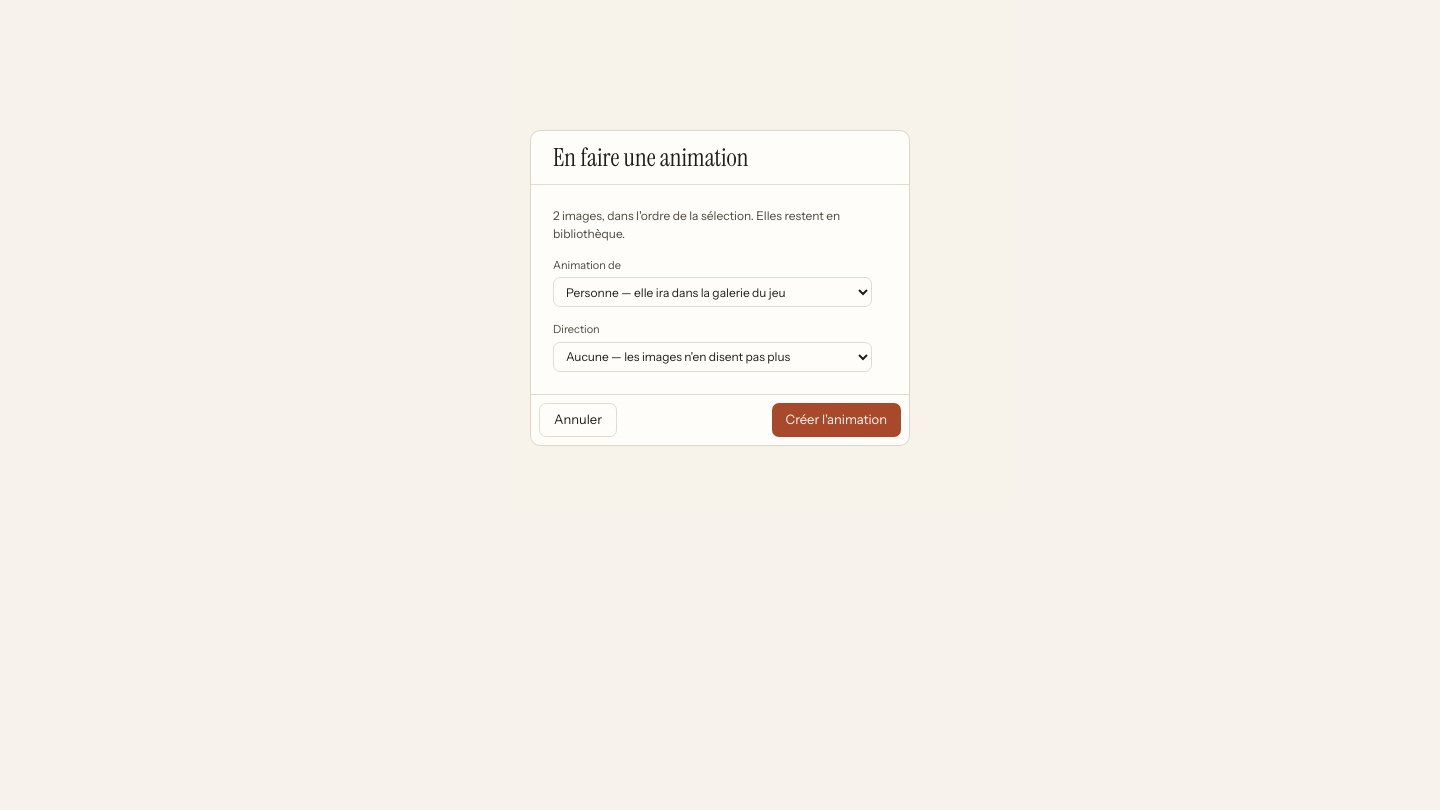
it: un refus du serveur se lit dans la fenêtre, sans la fermer
Click the button "Créer l'animation": [836, 420] box 772,403 -> 901,437
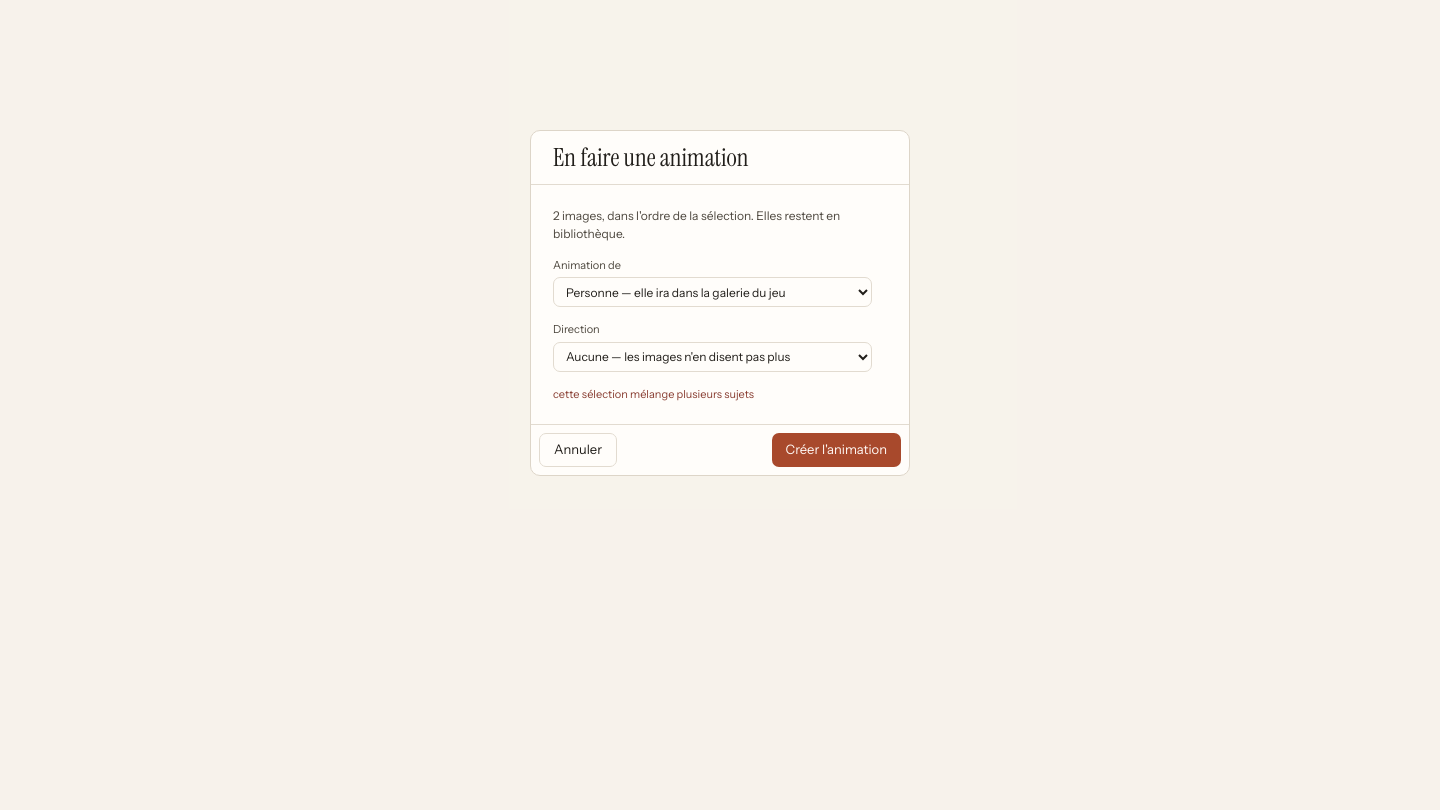
Result: the text "cette sélection mélange plusieurs sujets" is shown at 553,387 -> 754,401
